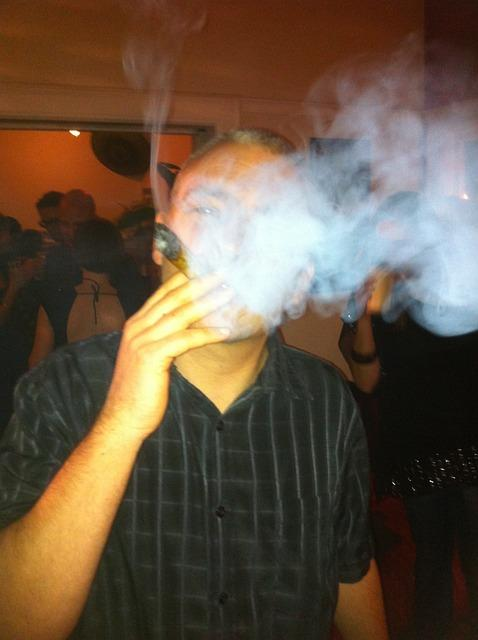smoker: (78, 98, 467, 467)
